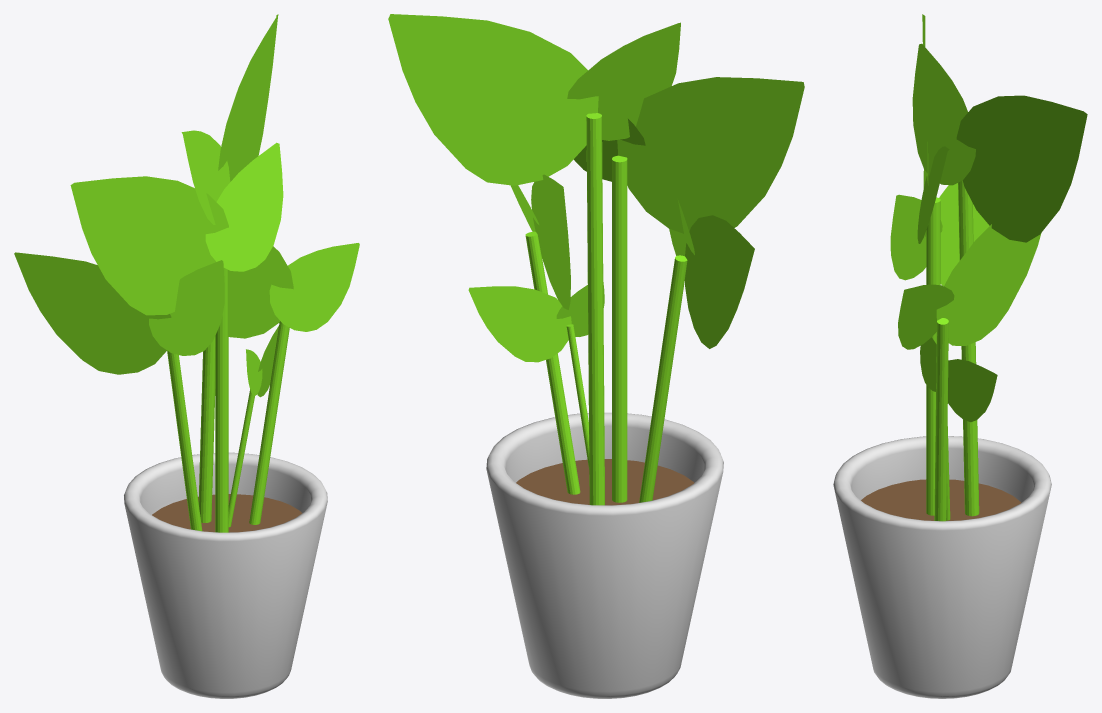
Rendered from le_plant_001.glb.
The picture shows the model from 3 angles, left to right: view 1: azimuth 30°, elevation 25°; view 2: azimuth 150°, elevation 25°; view 3: azimuth 270°, elevation 25°; orthographic projection. The views are drawn at different scales.
Visible parts, largest first — view 1: Cylinder.002, Cylinder, Cylinder.001; view 2: Cylinder.002, Cylinder, Cylinder.001; view 3: Cylinder.002, Cylinder, Cylinder.001.
Boxes of the visible parts, <box> form: Cylinder.002: <box>14,14,359,532</box>; Cylinder: <box>124,452,327,698</box>; Cylinder.001: <box>152,494,302,532</box>; Cylinder.002: <box>388,14,804,505</box>; Cylinder: <box>486,412,723,698</box>; Cylinder.001: <box>516,459,694,505</box>; Cylinder.002: <box>890,14,1087,521</box>; Cylinder: <box>833,436,1051,698</box>; Cylinder.001: <box>861,479,1021,520</box>.
Size of the model in its own units: 3.25 by 6.3 by 2.33.
